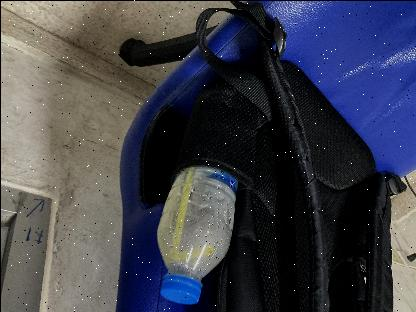Plastic Bottle: (155, 162, 237, 306)
